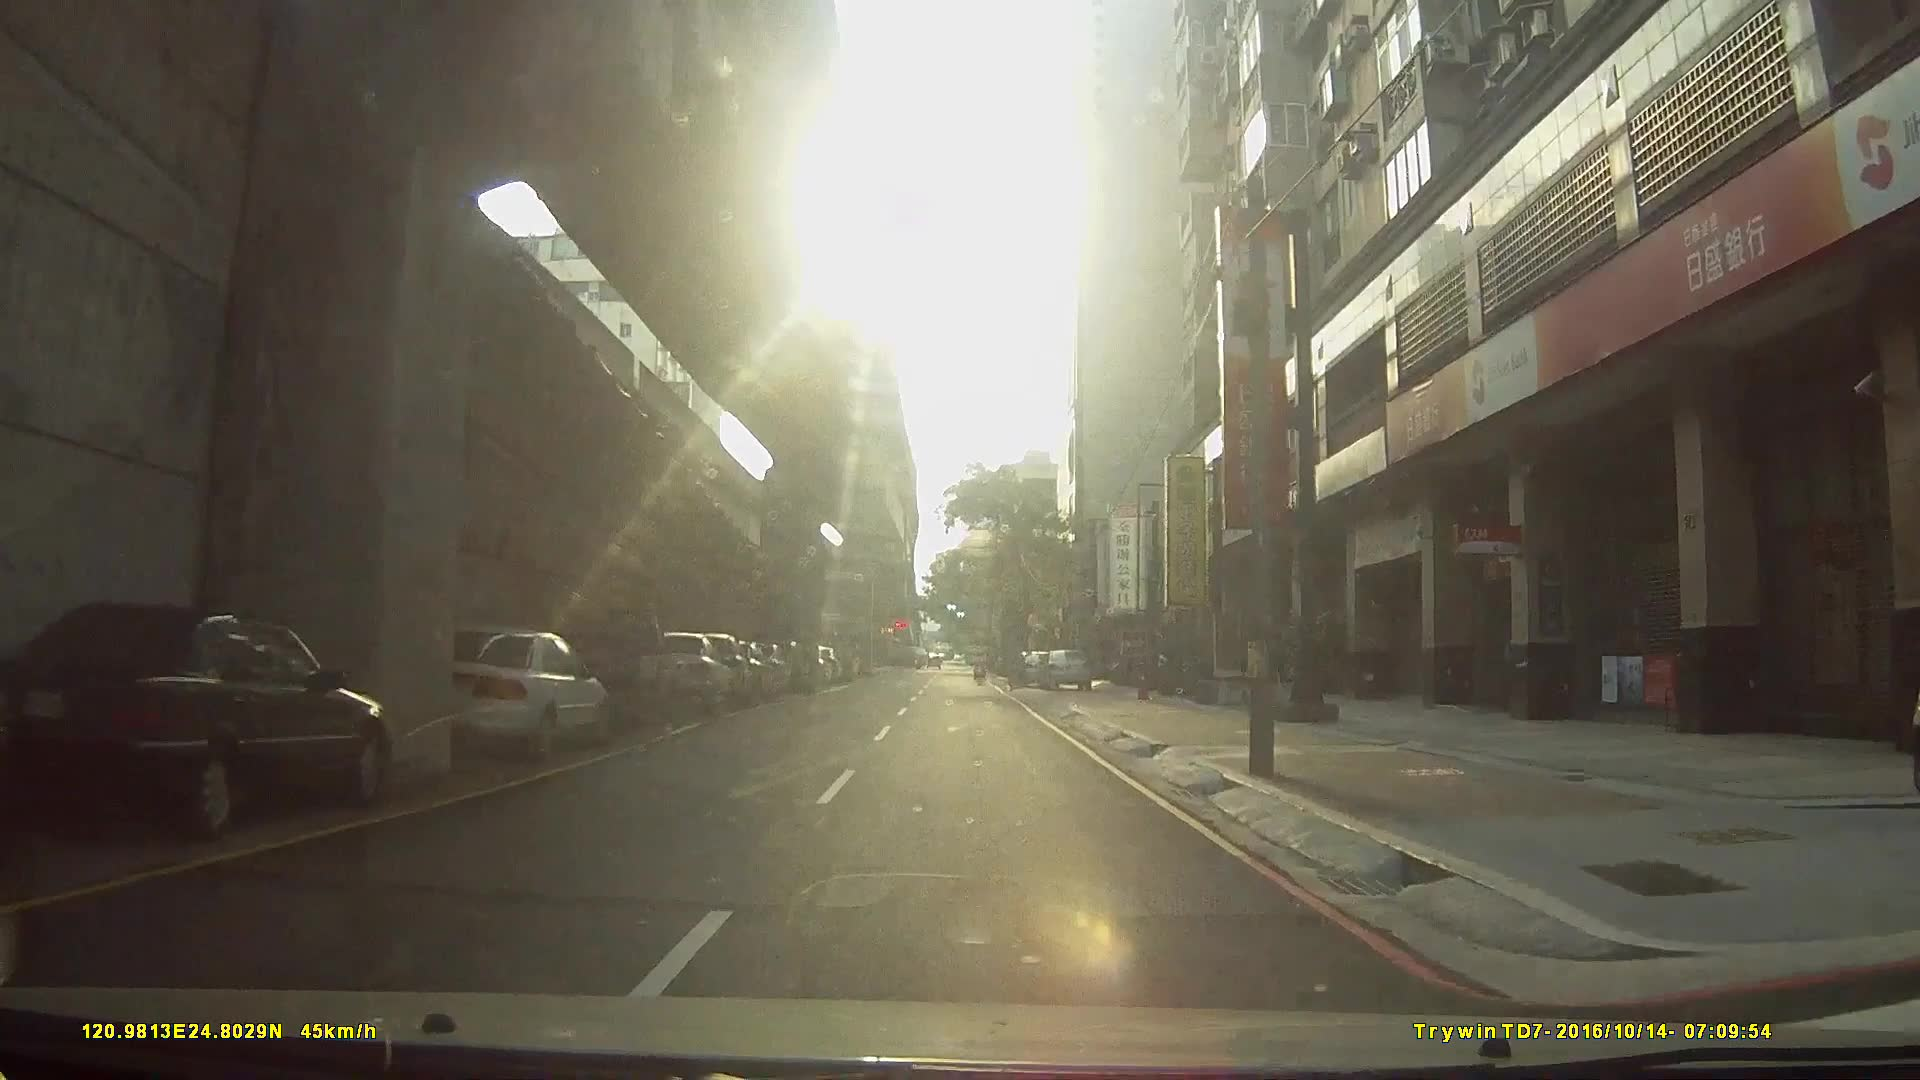vehicle: (0, 596, 389, 840), (415, 618, 607, 757), (522, 604, 676, 728), (629, 626, 737, 715), (659, 620, 794, 670), (1035, 646, 1095, 692)
